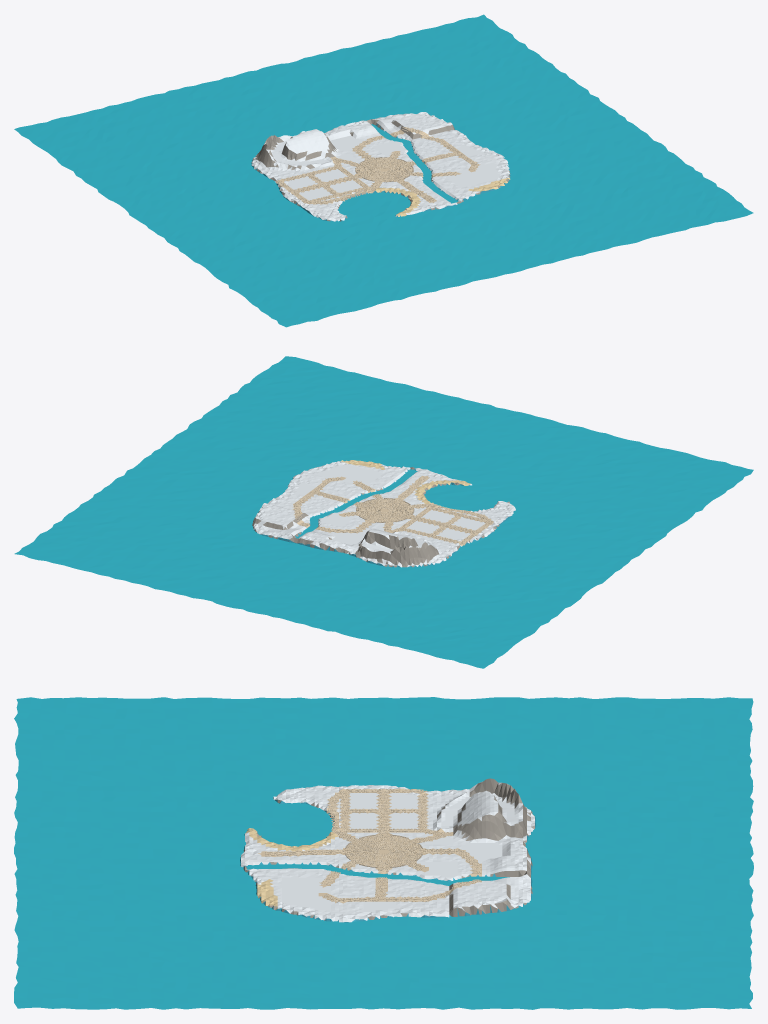
File: town_terrain.glb
3 views of the same model, one above another, from view 1: azimuth 30°, elevation 25°; view 2: azimuth 150°, elevation 25°; view 3: azimuth 270°, elevation 25° (orthographic). The views are drawn at different scales.
Parts seen in each view (by area): view 1: water, town_terrain, terrain_paving; view 2: water, town_terrain, terrain_paving; view 3: water, town_terrain, terrain_paving.
Boxes of the visible parts, x1,y1,x2,y2 form: water: (14, 14, 753, 327); town_terrain: (251, 112, 510, 221); terrain_paving: (276, 127, 478, 203); water: (14, 356, 753, 668); town_terrain: (252, 460, 515, 567); terrain_paving: (294, 477, 492, 544); water: (14, 697, 753, 1009); town_terrain: (240, 778, 535, 922); terrain_paving: (265, 789, 481, 902).
Size of the model in its own units: 181 by 9.72 by 181.
